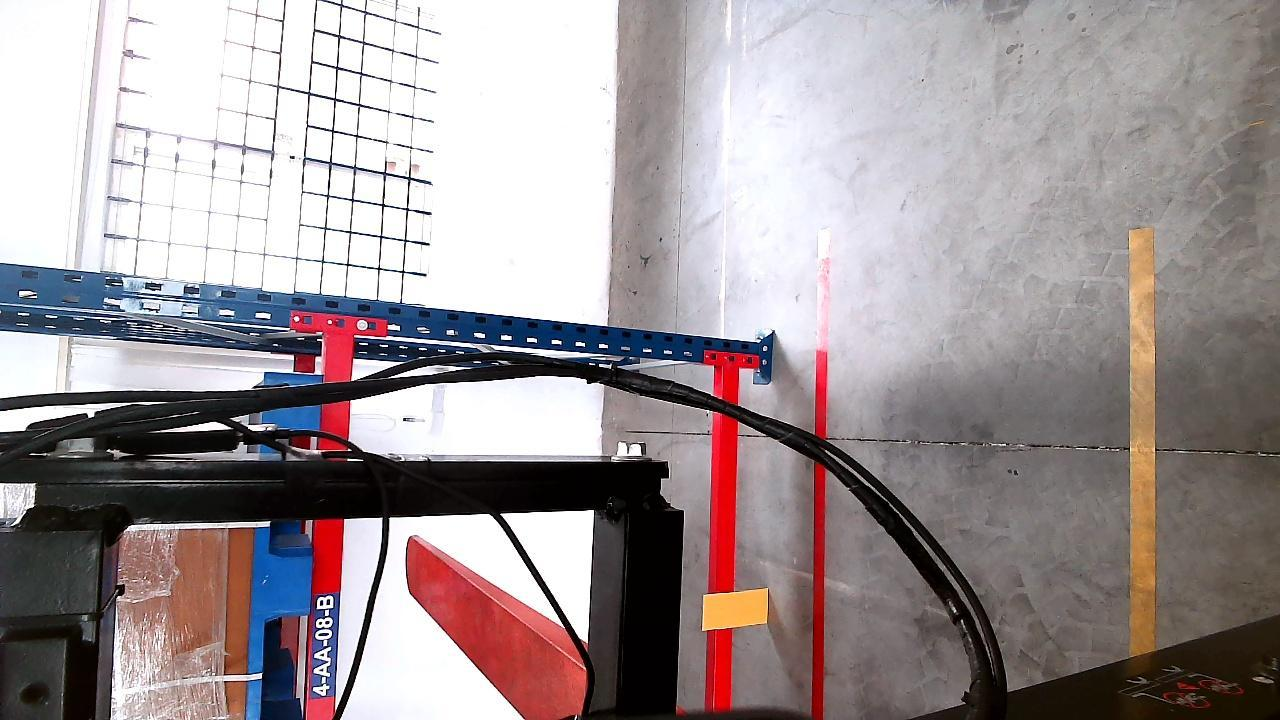red_line: (811, 231, 828, 719)
yellow_line: (1130, 222, 1159, 663)
